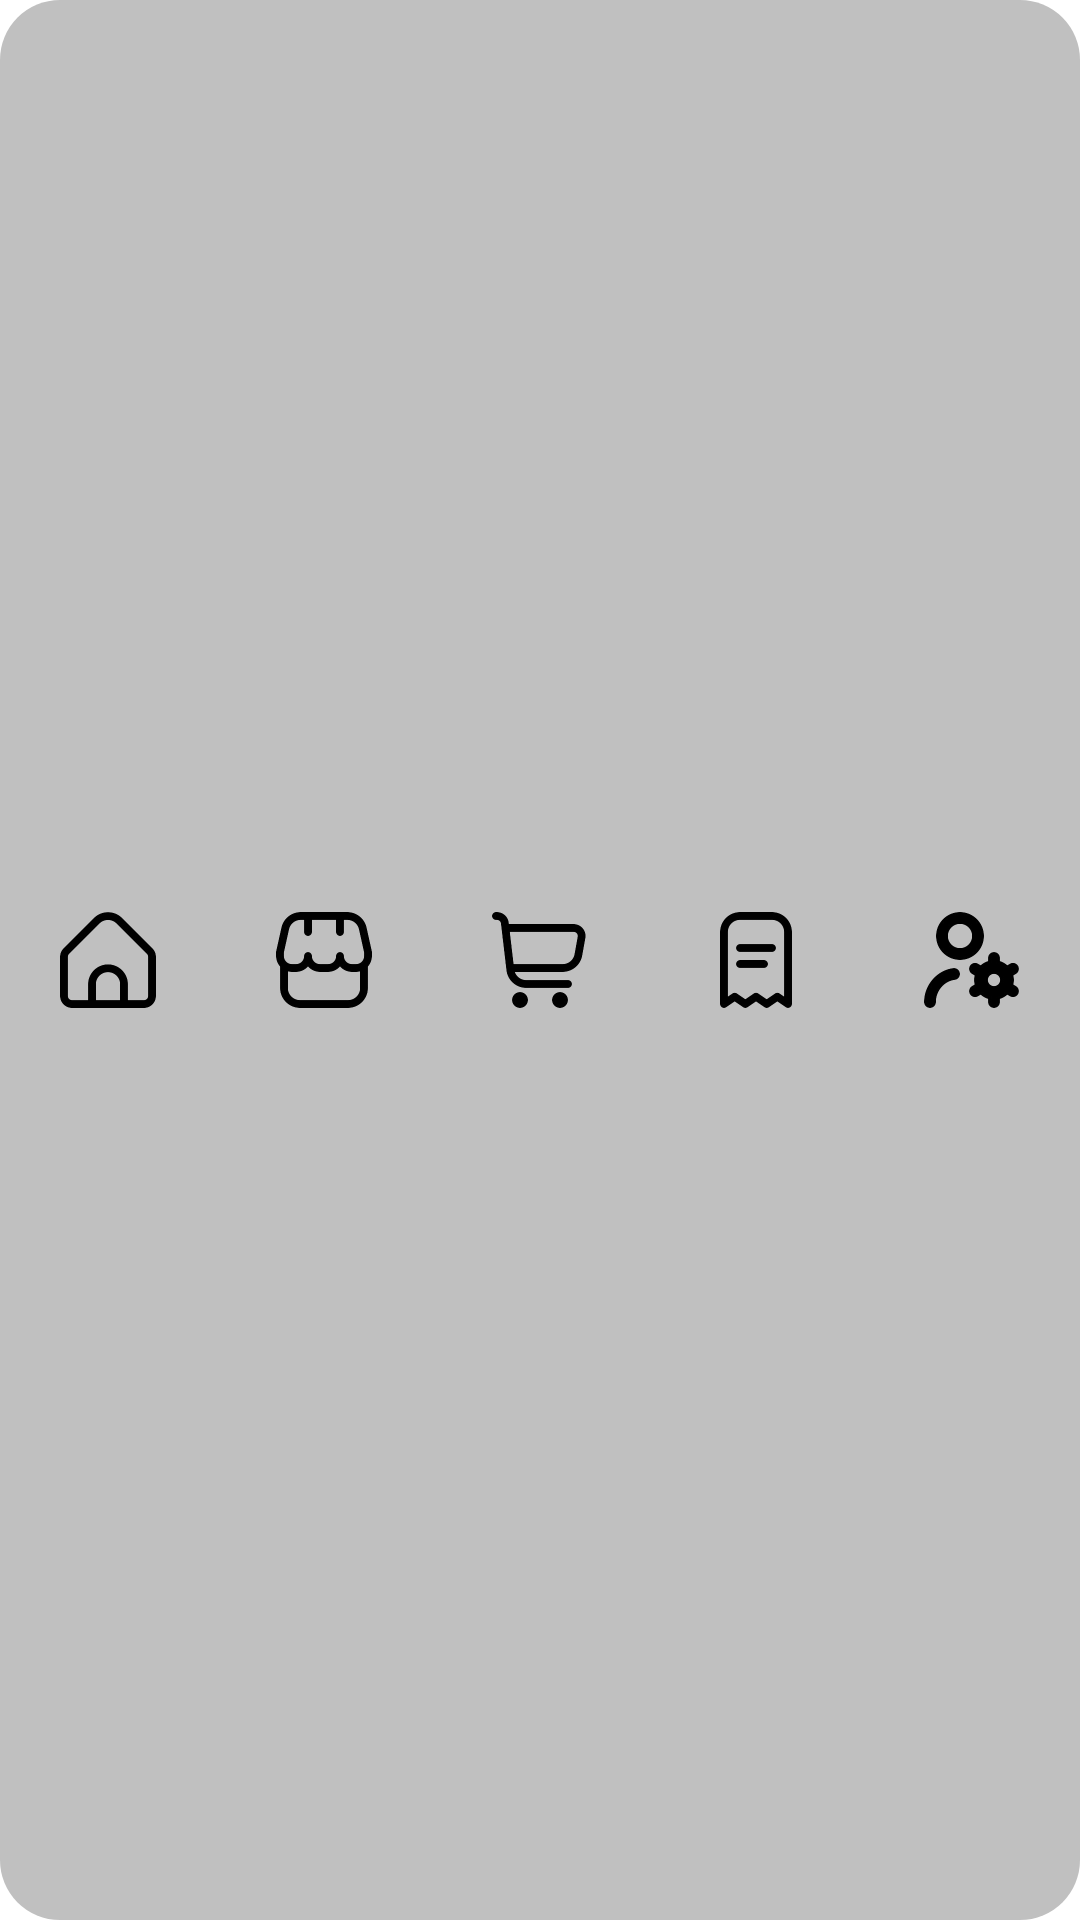

Screen size 1080px x 1920px. Icon name, then its center in pixels as [x,y]:
bill: [756,960]
cart: [539,960]
shop: [324,960]
